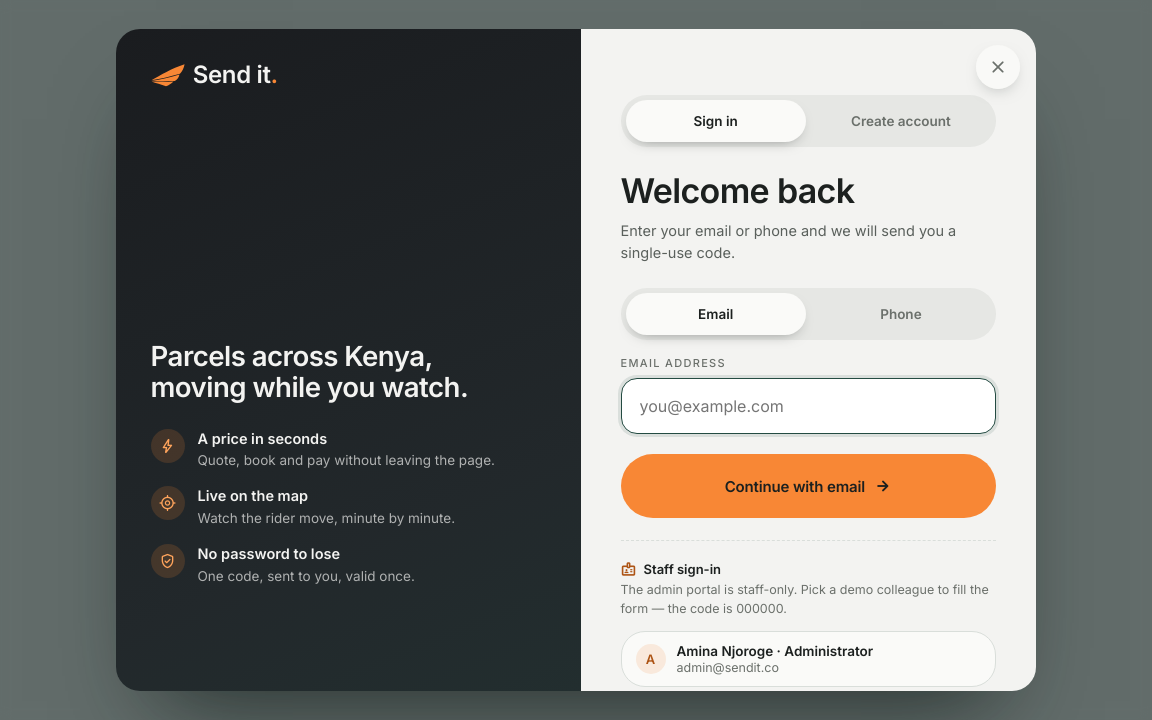
Test: auth modal › does not send a code for an empty field
What coordinates should you click on to do the following:
click the button "Continue with email"
I would click on:
 (808, 486)
Its box is [620,454,996,518].
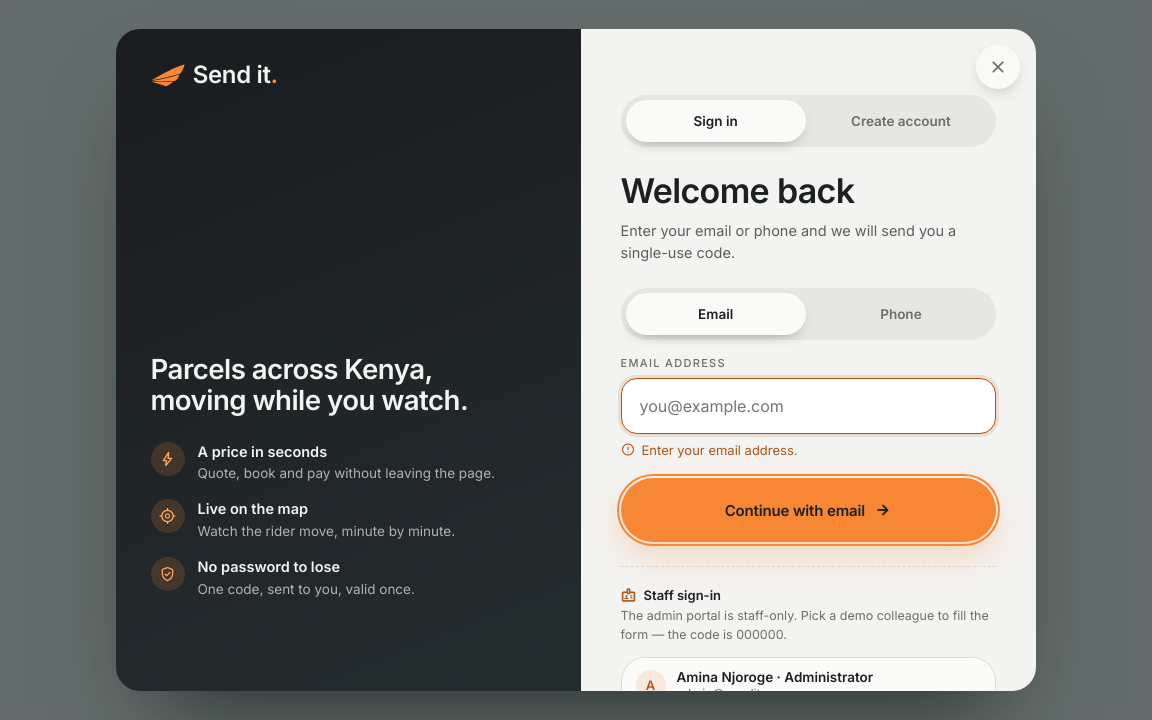
Now the text "Enter your email address." is shown, box [620,440,798,460]
